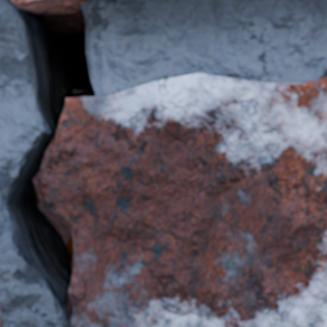brick: (33, 74, 326, 326), (12, 0, 89, 8), (0, 310, 1, 326)
crack: (0, 2, 96, 324)
